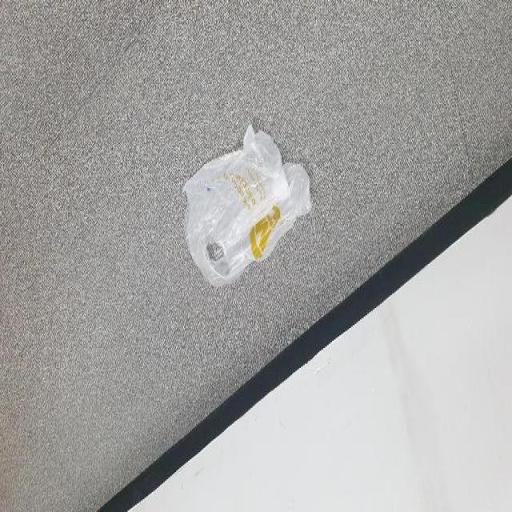plastic-bag: (186, 119, 316, 287)
